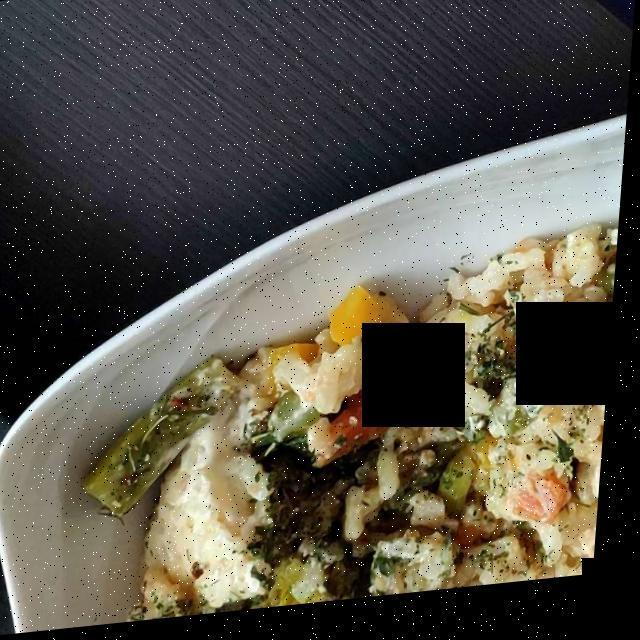mixed-vegetables: (97, 300, 532, 577)
risotto: (98, 251, 612, 617)
